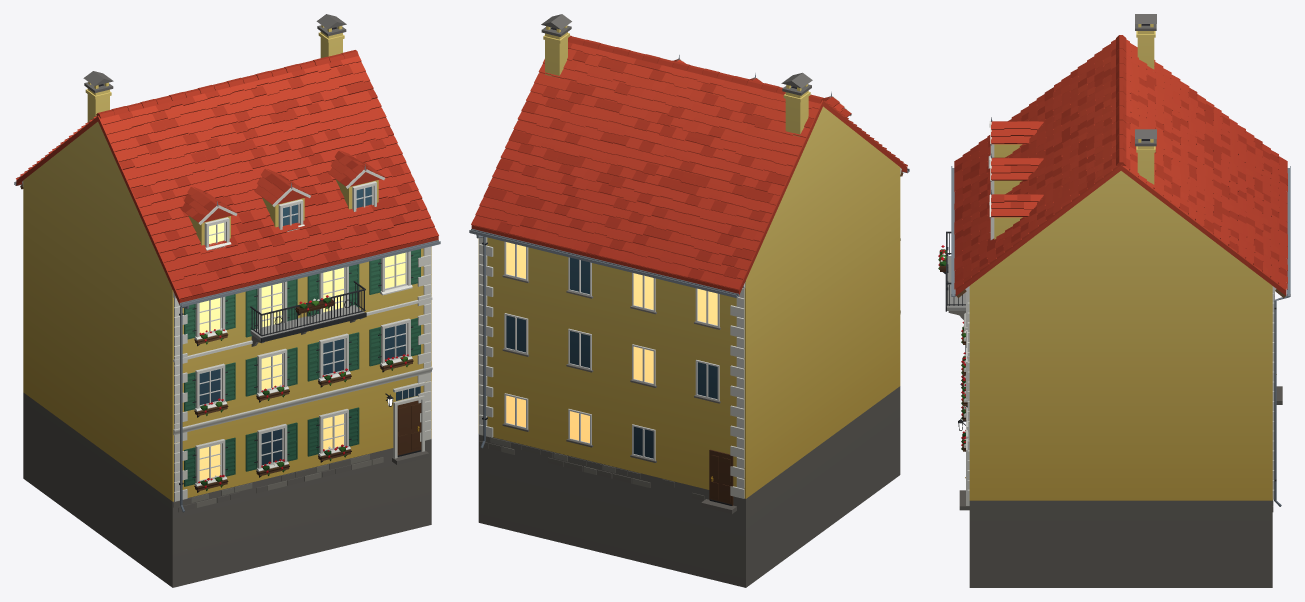
File: TownHouse_F.fbx
3 views of the same model, side by side, from view 1: azimuth 30°, elevation 25°; view 2: azimuth 150°, elevation 25°; view 3: azimuth 270°, elevation 25° (orthographic). The views are drawn at different scales.
Visible parts, largest first — view 1: TownHouse_F_LOD0; view 2: TownHouse_F_LOD0; view 3: TownHouse_F_LOD0.
Part boxes in pixels (x1=…): TownHouse_F_LOD0: x1=14, y1=14, x2=440, y2=587; TownHouse_F_LOD0: x1=469, y1=14, x2=909, y2=587; TownHouse_F_LOD0: x1=938, y1=14, x2=1290, y2=587.
Size of what is drawn, in the model's own units: 11 by 18.12 by 12.8.
1 material, 1 textured.
